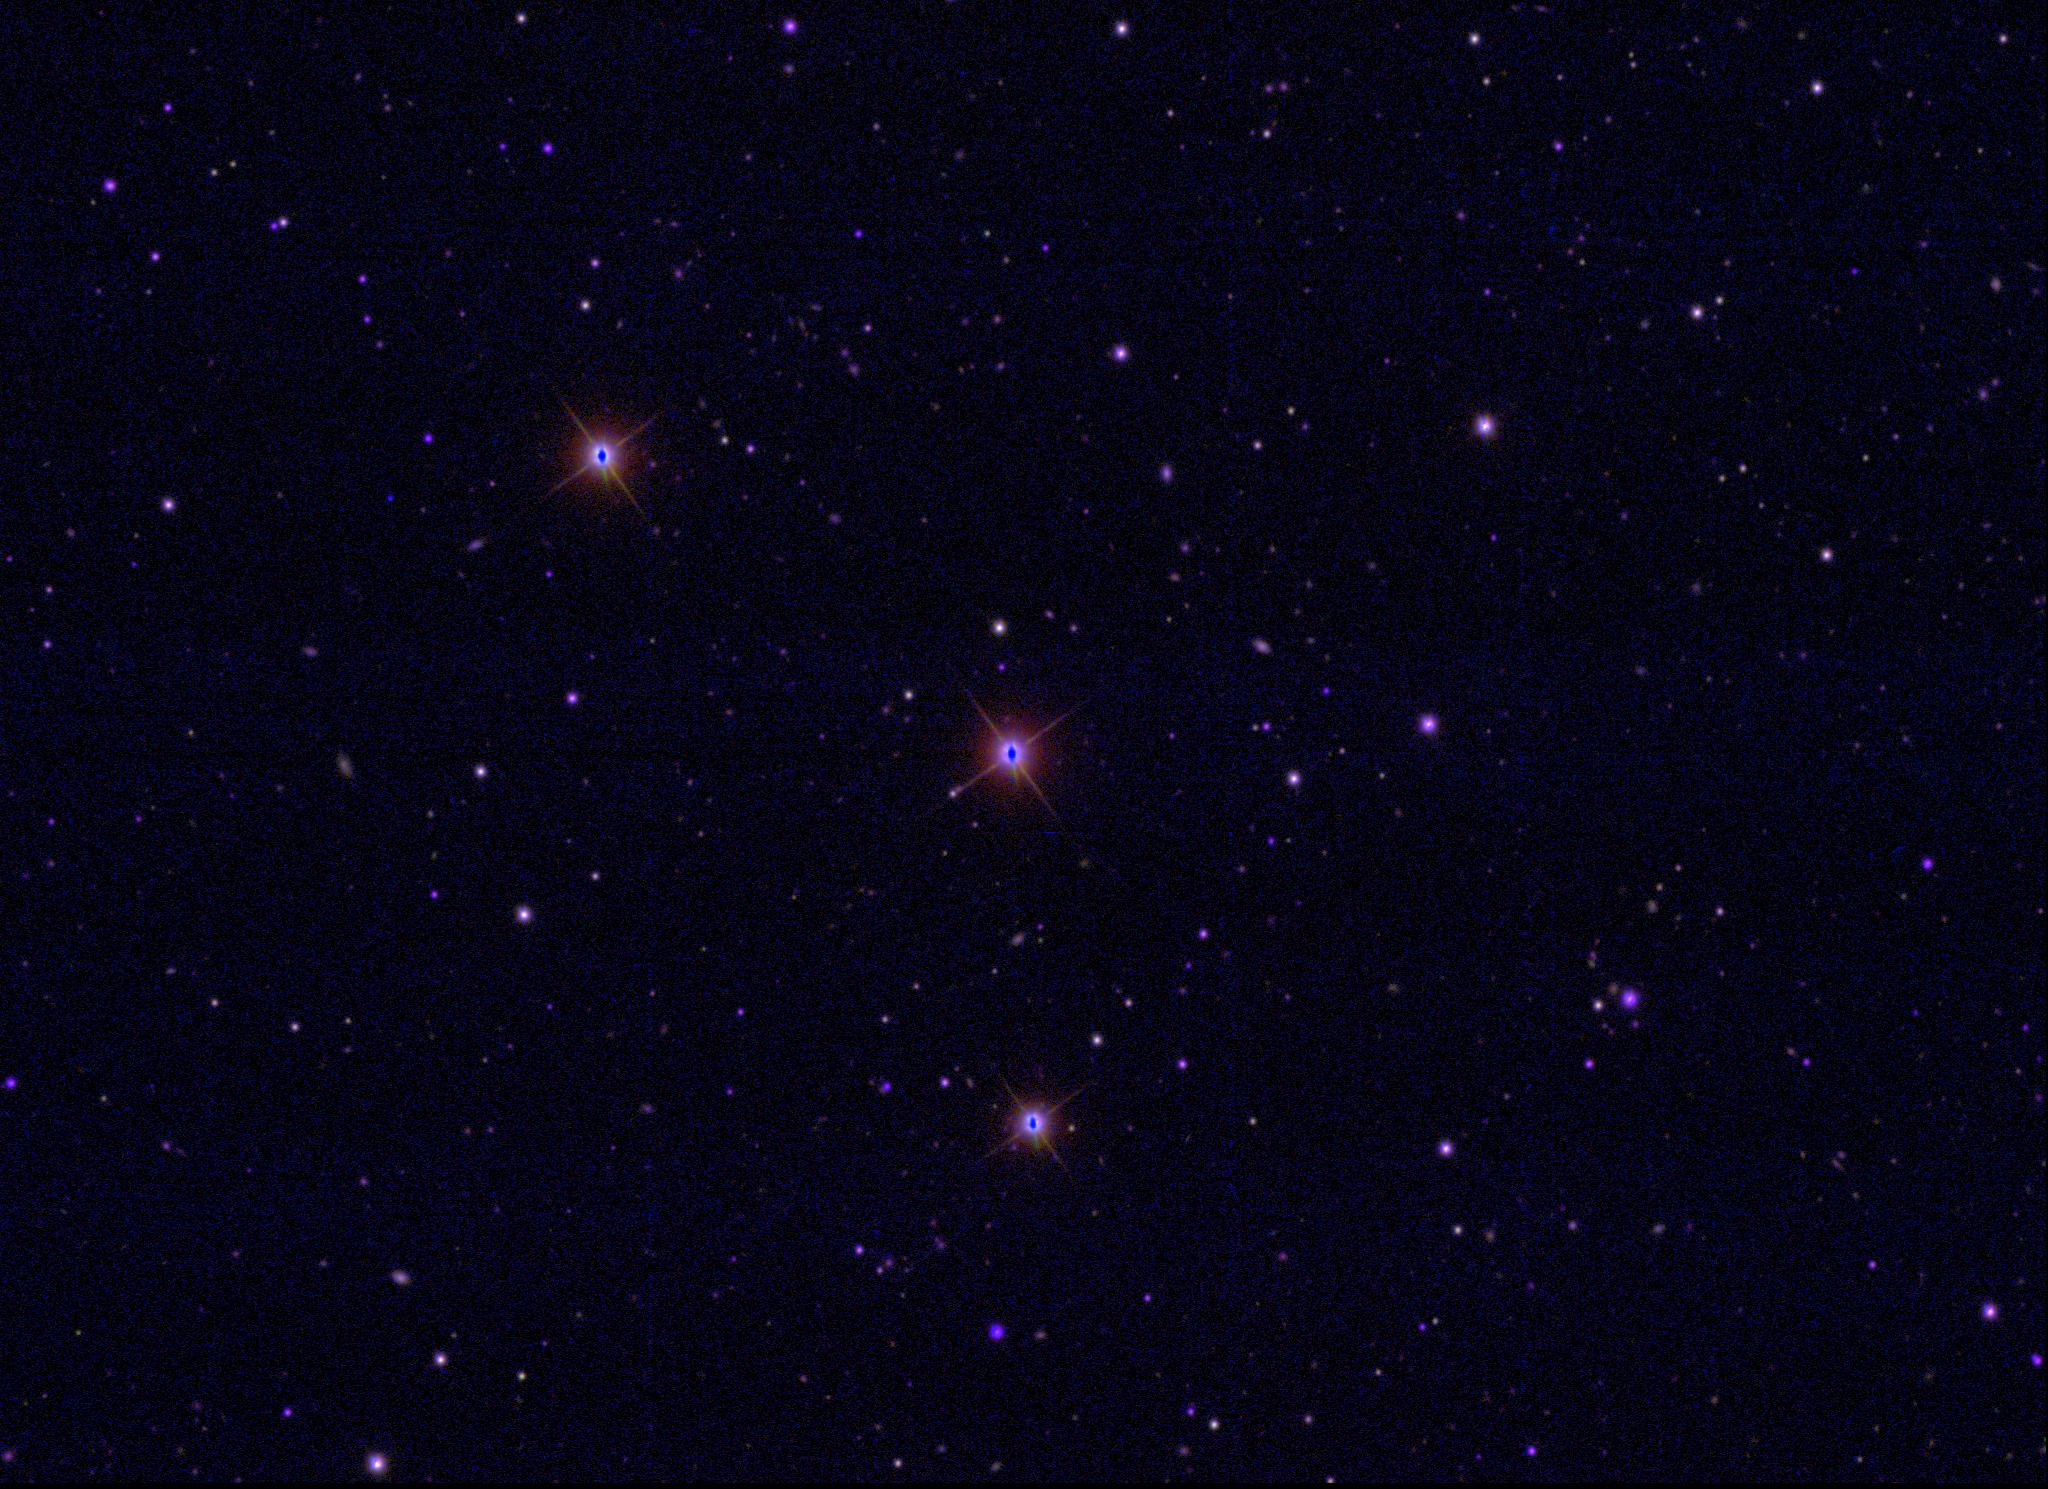L: (383, 492, 398, 506)
